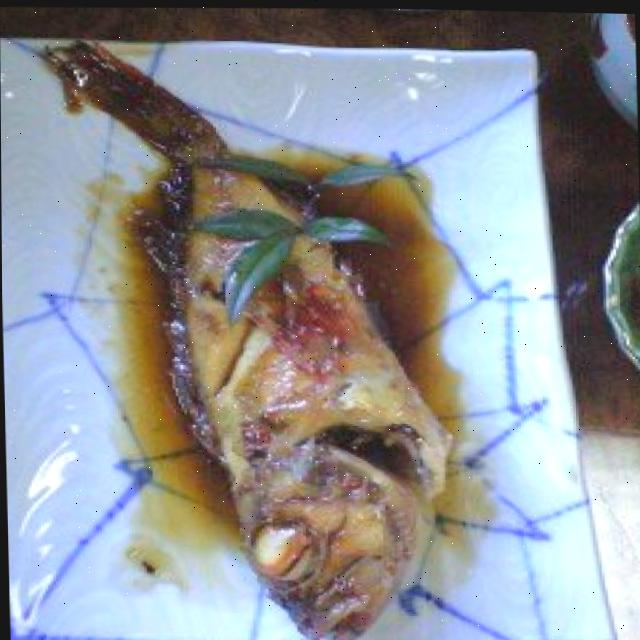熟制海鲜: (5, 2, 550, 640)
